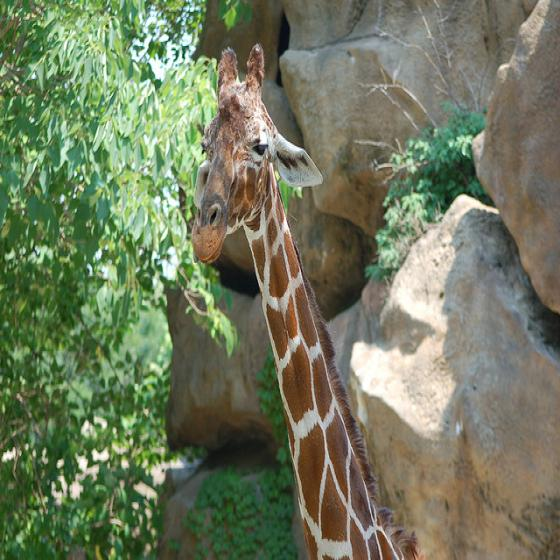giraffe: (191, 45, 418, 554)
